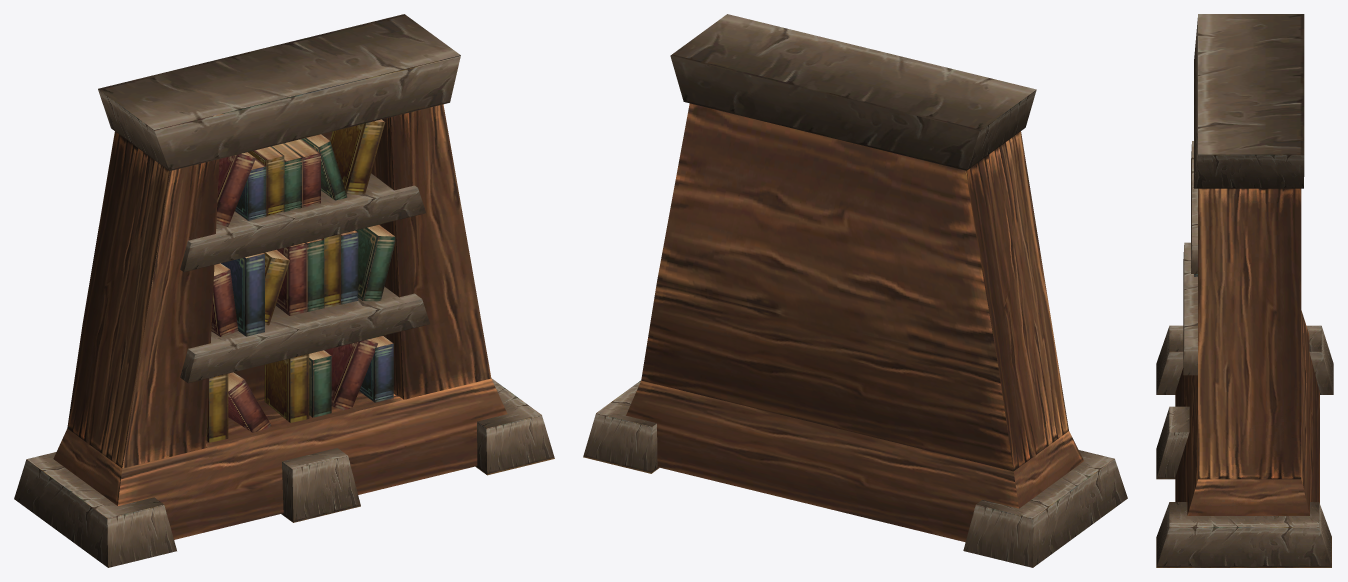
The model's file is dwarvenbookshelflarge.obj.
3 renders of one model, left to right at view 1: azimuth 30°, elevation 25°; view 2: azimuth 150°, elevation 25°; view 3: azimuth 270°, elevation 25°, orthographic. The views are drawn at different scales.
Parts seen in each view (by area): view 1: dwarvenbookshelflarge; view 2: dwarvenbookshelflarge; view 3: dwarvenbookshelflarge.
Boxes of the visible parts, left/top/right/bottom form: dwarvenbookshelflarge: left=14, top=14, right=554, bottom=567; dwarvenbookshelflarge: left=583, top=14, right=1127, bottom=567; dwarvenbookshelflarge: left=1156, top=14, right=1333, bottom=567.
Bounding box in the file's own units: 5.25 × 4.55 × 1.92.
1 material, 1 textured.
